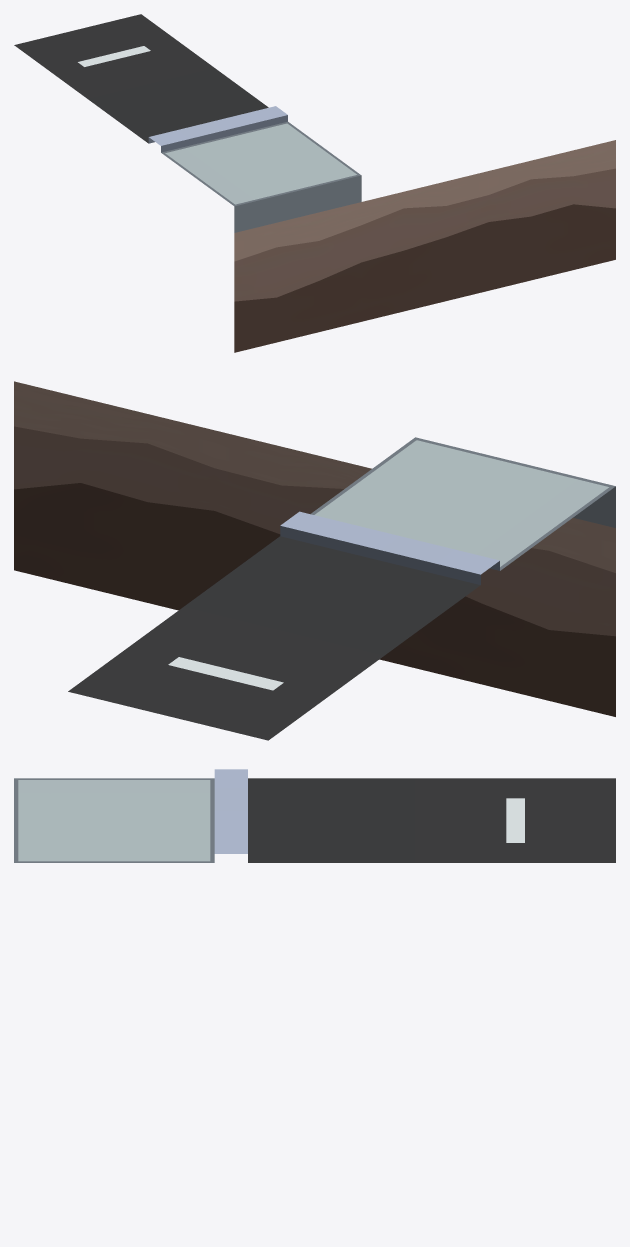
The model's file is ShootMan (1).fbx.
3 views of the same model, one above another, from view 1: azimuth 30°, elevation 25°; view 2: azimuth 150°, elevation 25°; view 3: azimuth 270°, elevation 25° (orthographic). The views are drawn at different scales.
Parts seen in each view (by area): view 1: Earth1, Earth2, Earth3, ConcreteFloor, AsphaltBeginning, AsphaltMiddle; view 2: Earth3, Earth1, AsphaltBeginning, AsphaltMiddle, ConcreteFloor, Earth2; view 3: AsphaltBeginning, ConcreteFloor, AsphaltMiddle.
Part boxes in pixels (<box>): Earth1: <box>234,202,361,352</box>; Earth2: <box>361,171,488,321</box>; Earth3: <box>488,140,615,290</box>; ConcreteFloor: <box>161,121,361,232</box>; AsphaltBeginning: <box>88,68,287,152</box>; AsphaltMiddle: <box>14,14,214,98</box>; Earth3: <box>14,381,214,610</box>; Earth1: <box>415,518,615,716</box>; AsphaltBeginning: <box>184,511,499,655</box>; AsphaltMiddle: <box>68,607,383,740</box>; ConcreteFloor: <box>310,437,615,570</box>; Earth2: <box>214,430,415,667</box>; AsphaltBeginning: <box>214,769,415,862</box>; ConcreteFloor: <box>14,778,214,862</box>; AsphaltMiddle: <box>415,778,615,862</box>.
Bounding box in the file's own units: 300 × 115 × 300.
Materials: 1 (1 with a texture image).
